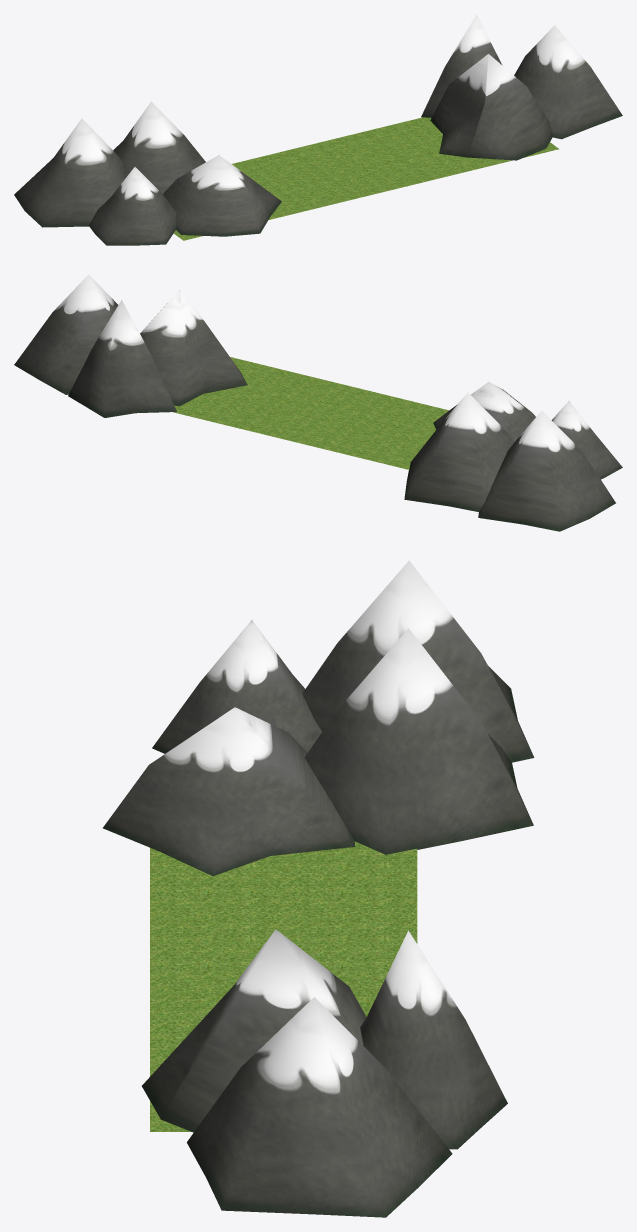
The model's file is terrain_3.glb.
The picture shows the model from 3 angles, top to bottom: view 1: azimuth 30°, elevation 25°; view 2: azimuth 150°, elevation 25°; view 3: azimuth 270°, elevation 25°; orthographic projection. The views are drawn at different scales.
Visible parts, largest first — view 1: Circle.012; view 2: Circle.012; view 3: Circle.012.
Boxes of the visible parts, <box> form: Circle.012: <box>14,14,622,245</box>; Circle.012: <box>14,274,622,531</box>; Circle.012: <box>103,560,534,1217</box>.
Bounding box in the file's own units: 192 × 30.56 × 64.67.
6 materials, 6 textured.
